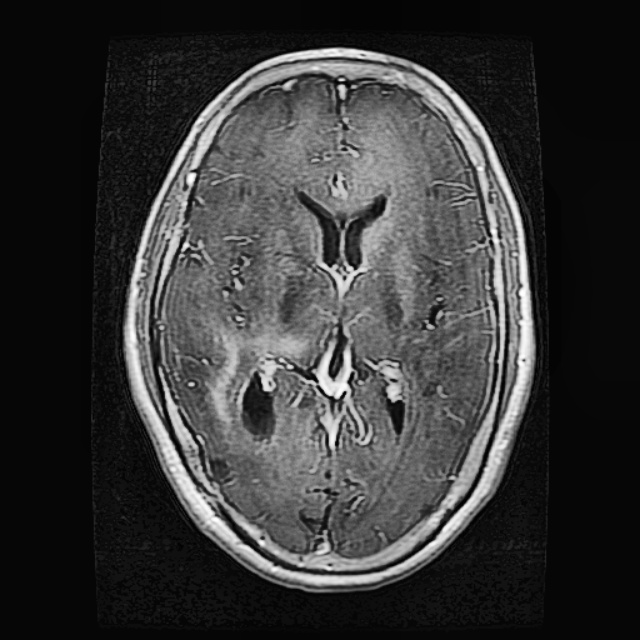Glioma: (209, 329, 299, 440)
